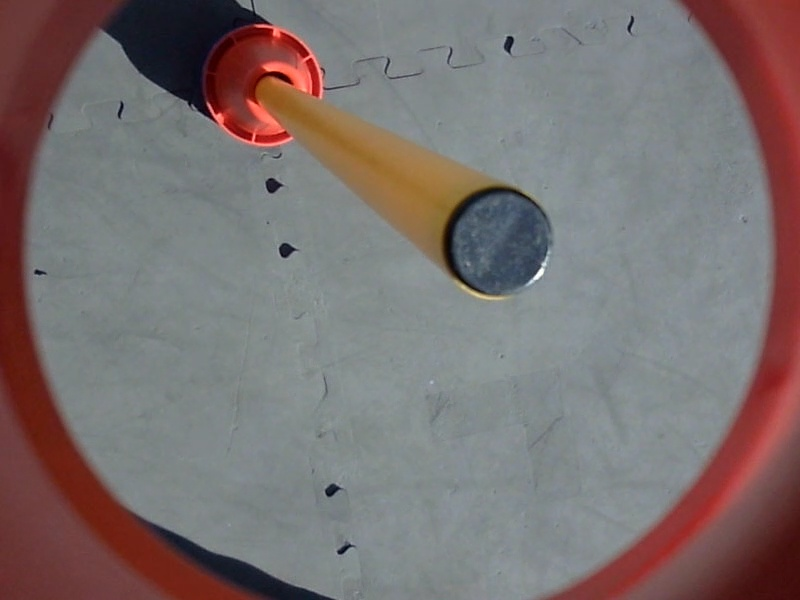tip: (440, 175, 561, 301)
